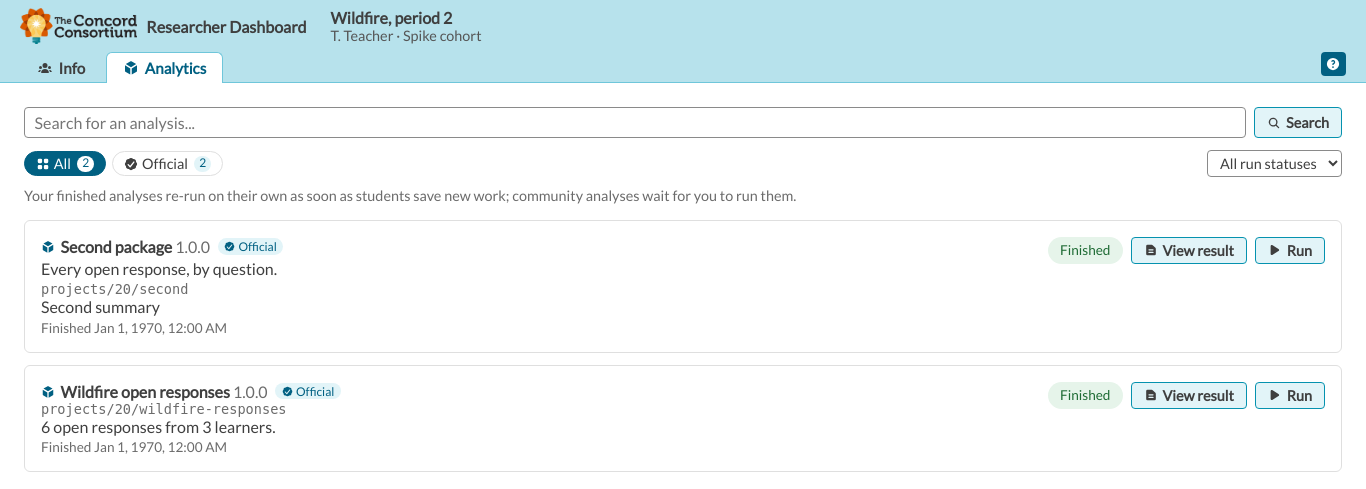
Scenario: opening a package › opens a package with its title focused at its own address, its result shown, and the list gone
Expected: the heading "Wildfire, period 2" is shown, [331,8,452,27]
Expected: the link "Wildfire open responses" is shown, [41,382,230,400]
Click the link "Second package" at (107, 246), box [41,237,172,256]
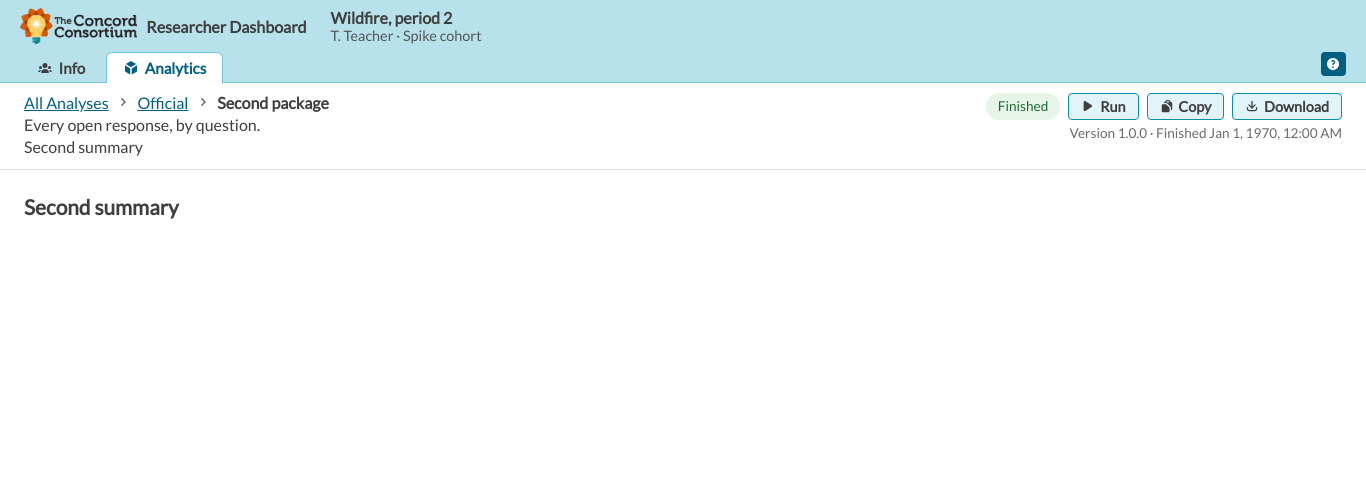
Expected: the text "Second summary" is shown, [24,137,143,156]
Expected: the heading "Second summary" is shown, [24,194,179,219]
